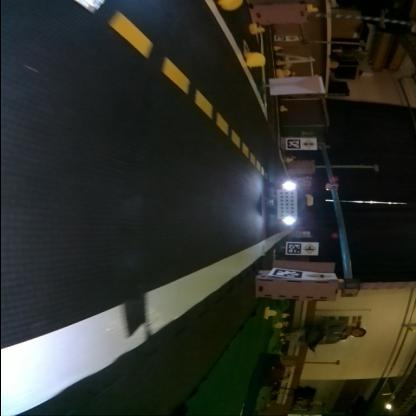Duckie: (246, 52, 265, 66), (216, 0, 242, 10), (264, 306, 278, 320), (251, 22, 265, 32), (280, 106, 288, 112)
Duckiebot: (271, 181, 304, 223)
Intersection sign: (305, 273, 332, 279), (305, 244, 318, 254)
QR code: (274, 269, 302, 278), (287, 242, 301, 254), (288, 138, 300, 148)
Signal sign: (303, 138, 315, 148)
